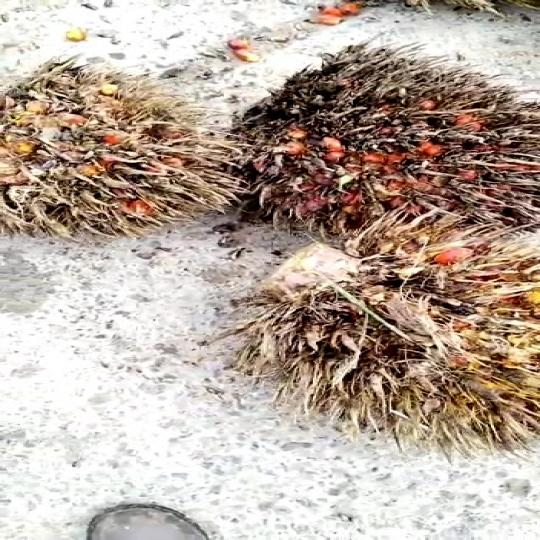terlalu masak: (207, 233, 540, 446), (215, 33, 540, 242), (0, 74, 244, 242)
